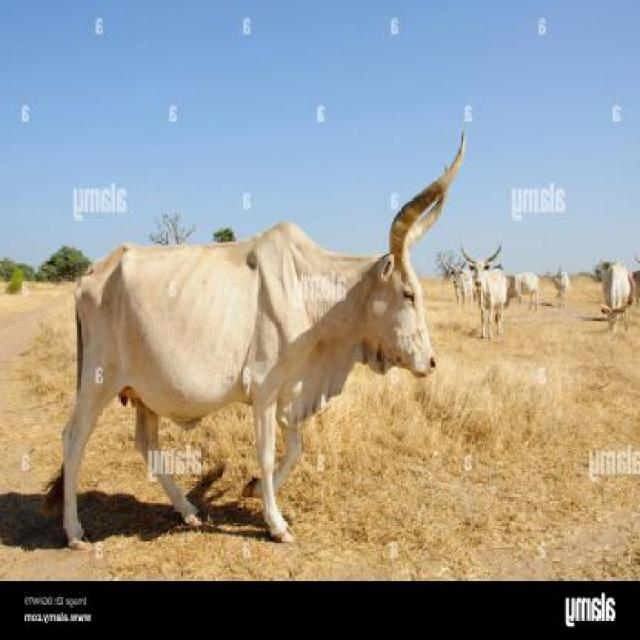Cow: (39, 131, 466, 554)
